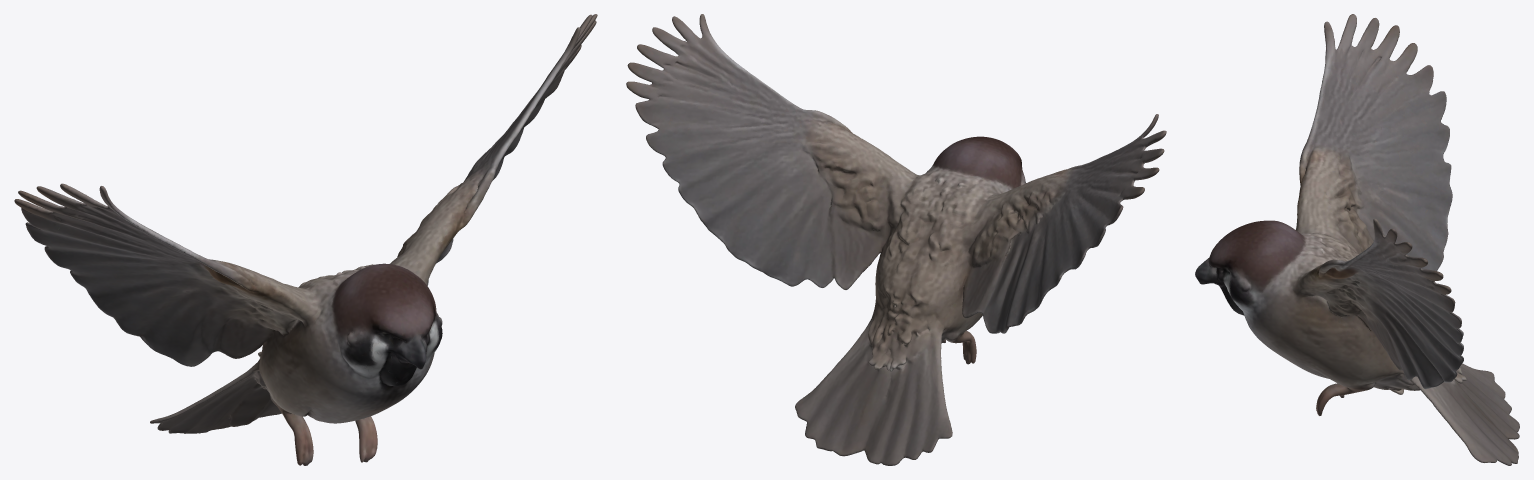
The model's file is bird-proto.glb.
3 views of the same model, side by side, from view 1: azimuth 30°, elevation 25°; view 2: azimuth 150°, elevation 25°; view 3: azimuth 270°, elevation 25° (orthographic). The views are drawn at different scales.
Bounding box in the file's own units: 1 × 0.6362 × 0.5551.
1 material, 1 textured.
